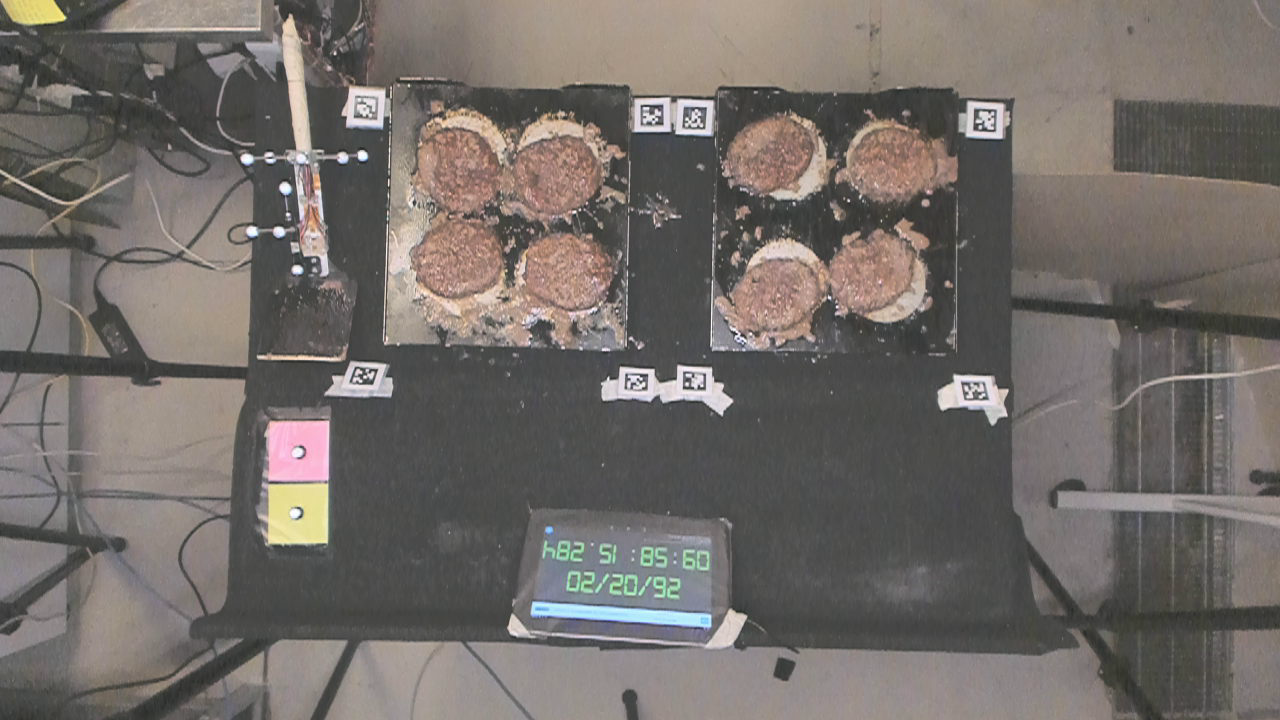hamburger: (410, 217, 507, 303), (414, 127, 500, 218), (511, 132, 603, 215), (524, 232, 616, 311), (725, 111, 816, 190), (851, 124, 939, 199), (824, 239, 910, 312), (734, 257, 820, 329)
marker: (268, 421, 331, 481)
